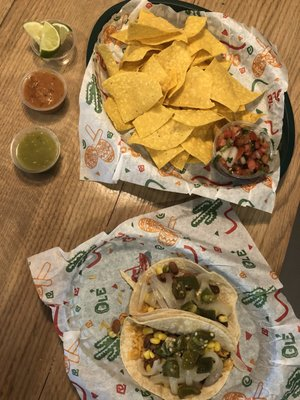sushi: (10, 126, 61, 174), (19, 68, 68, 113)
